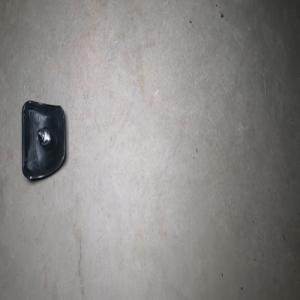LuggagePart: (20, 99, 66, 182)
